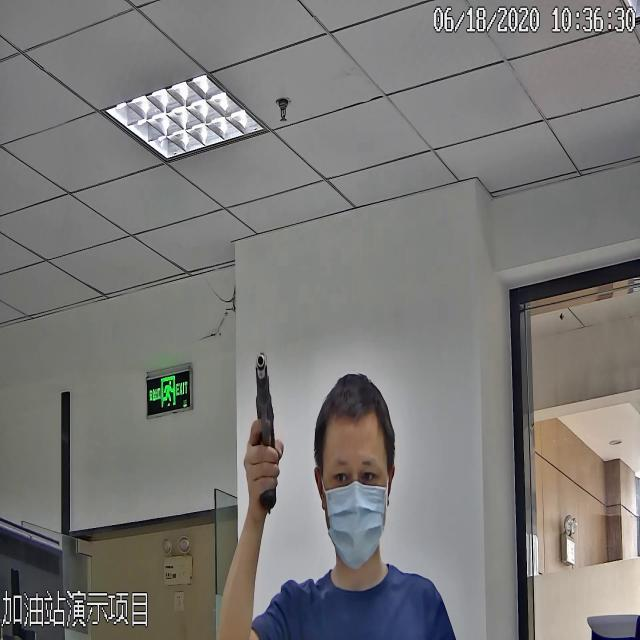gun-knife-thesis - v11 Yolov5 augmented: (242, 348, 291, 508)
